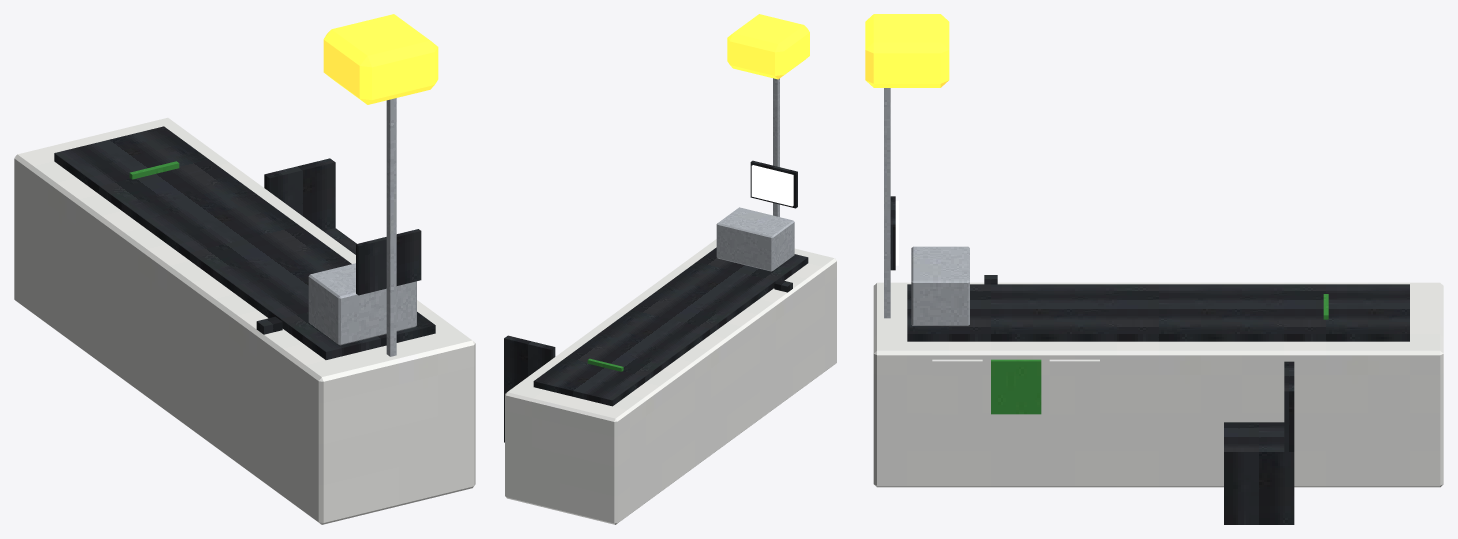
The picture shows the model from 3 angles, left to right: view 1: azimuth 30°, elevation 25°; view 2: azimuth 150°, elevation 25°; view 3: azimuth 270°, elevation 25°; orthographic projection. The views are drawn at different scales.
Visible parts, largest first — view 1: Decor_checkout_lane; view 2: Decor_checkout_lane; view 3: Decor_checkout_lane.
Part boxes in pixels (x1=…): Decor_checkout_lane: x1=14, y1=14, x2=475, y2=524; Decor_checkout_lane: x1=504, y1=14, x2=836, y2=524; Decor_checkout_lane: x1=865, y1=14, x2=1443, y2=524.
Bounding box in the file's own units: 1.51 × 2.8 × 3.45.
Materials: 6 (5 with a texture image).
